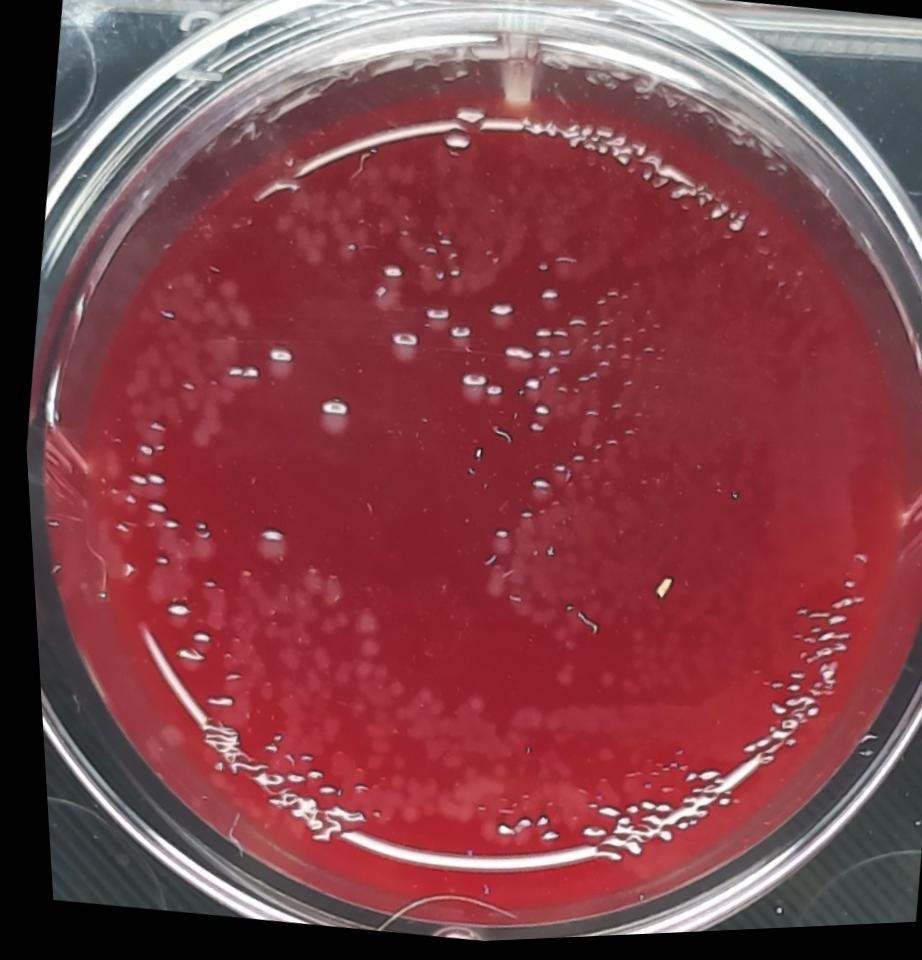pdpiscicida: (361, 264, 404, 321), (242, 524, 289, 572), (255, 343, 300, 393), (183, 402, 223, 454), (307, 398, 351, 445), (287, 225, 330, 272), (380, 332, 419, 372), (451, 372, 485, 412), (494, 346, 533, 380), (218, 363, 258, 396), (478, 304, 515, 339), (438, 323, 472, 360), (417, 305, 449, 340), (480, 529, 507, 562), (531, 290, 559, 320), (560, 320, 588, 350), (212, 278, 240, 307), (520, 481, 547, 511), (524, 406, 548, 435), (543, 464, 567, 493), (518, 379, 539, 405), (561, 456, 584, 479)
